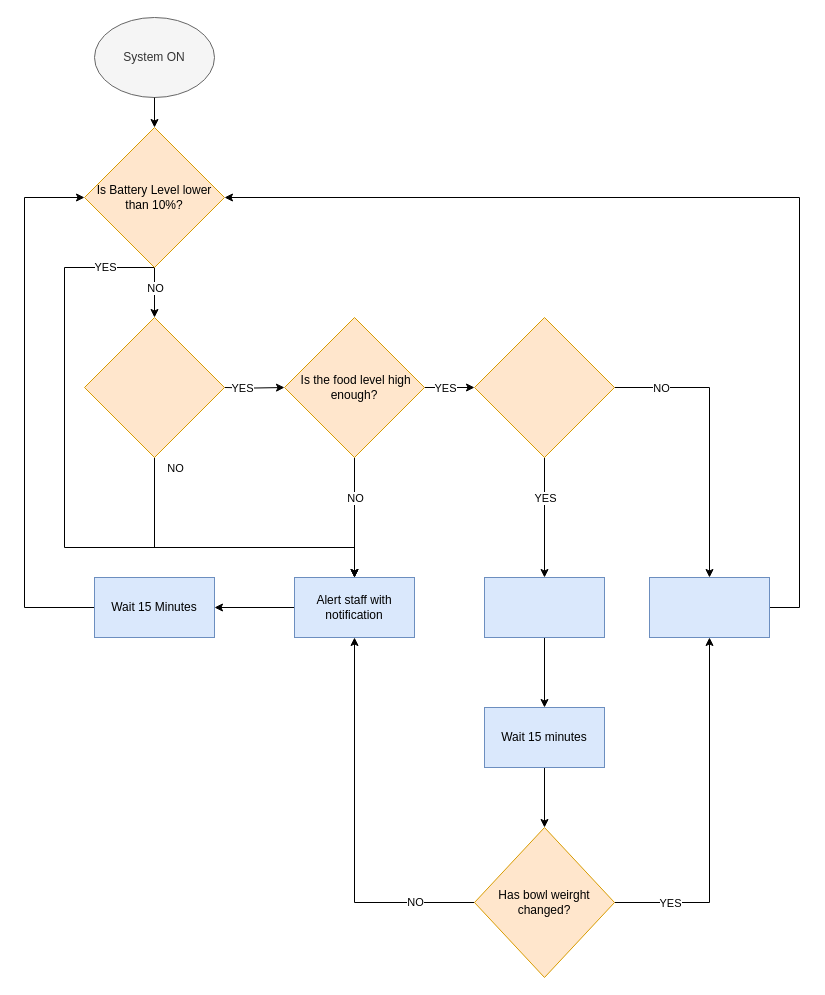
This 825x995 diagram has some shape labels left out. Each missing label, with the box of its shape:
Dispense food for pet: (484, 576, 604, 638)
Do nothing: (648, 576, 770, 638)
Is device configured?: (84, 316, 224, 458)
Is it set feeding time?: (474, 316, 614, 458)
